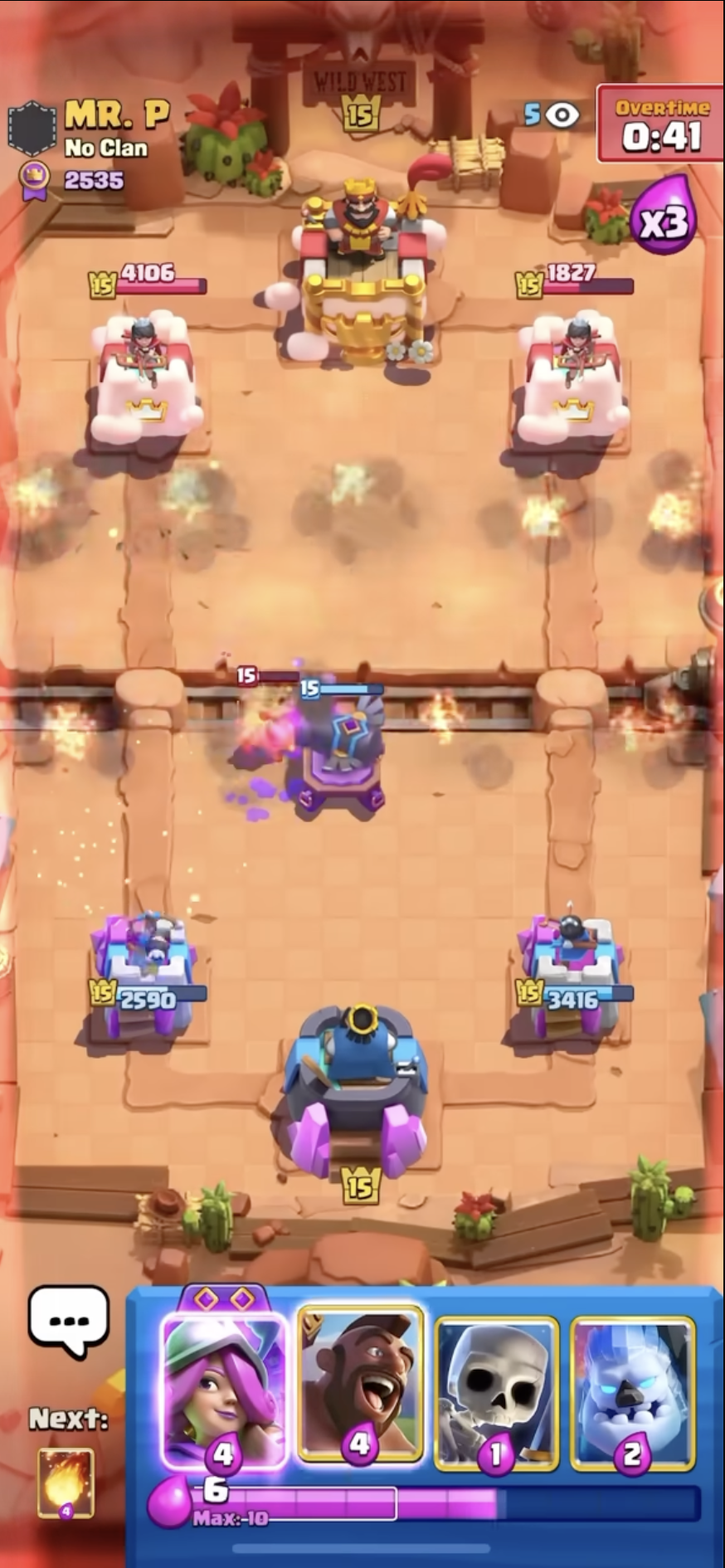evo-cannon: (285, 666, 399, 827)
